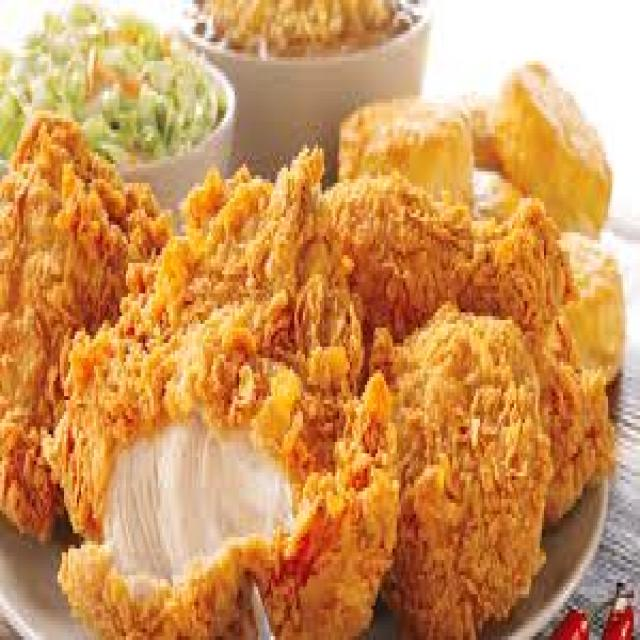organic waste: (36, 309, 399, 636), (0, 106, 166, 541), (362, 301, 540, 636), (122, 168, 364, 381), (482, 213, 612, 522), (316, 172, 538, 332), (0, 0, 218, 149), (491, 61, 612, 221), (333, 103, 471, 209), (190, 0, 412, 46), (559, 225, 623, 377), (461, 84, 499, 160), (597, 579, 634, 636), (548, 602, 582, 636)
